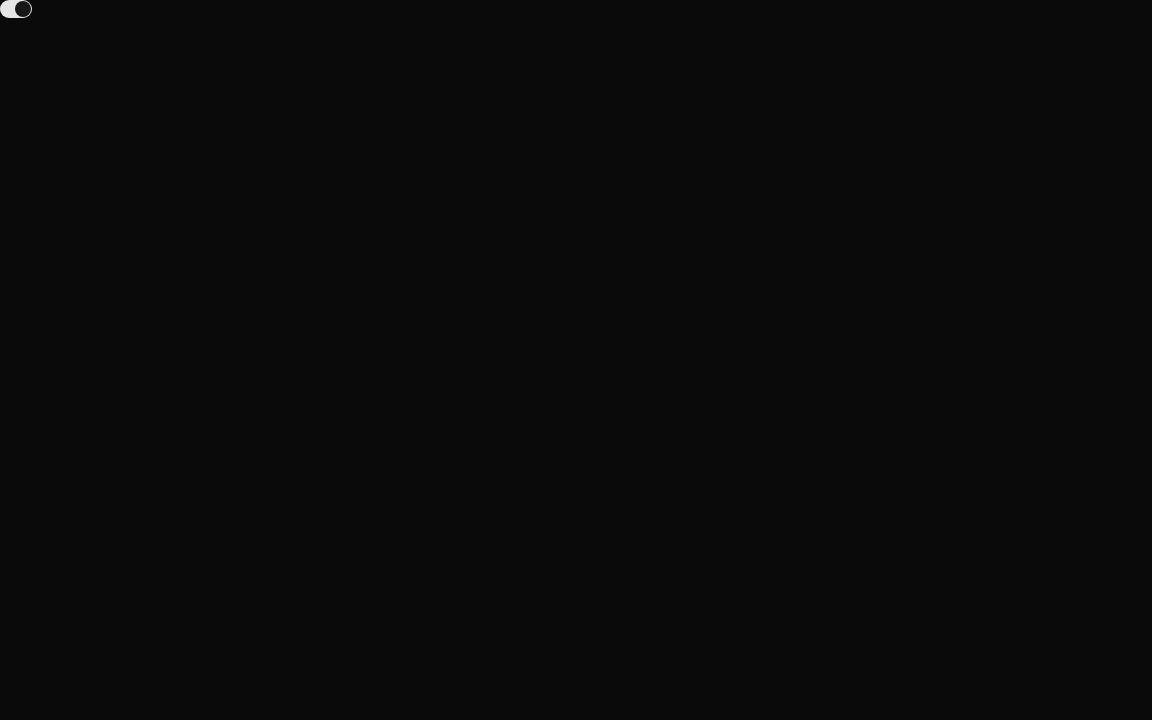
Test: ThemeToggle › segundo clique volta para escuro: recoloca a classe 'dark' no elemento raiz
Click the switch named "modo escuro".
click(16, 9)  # box [0, 0, 32, 18]
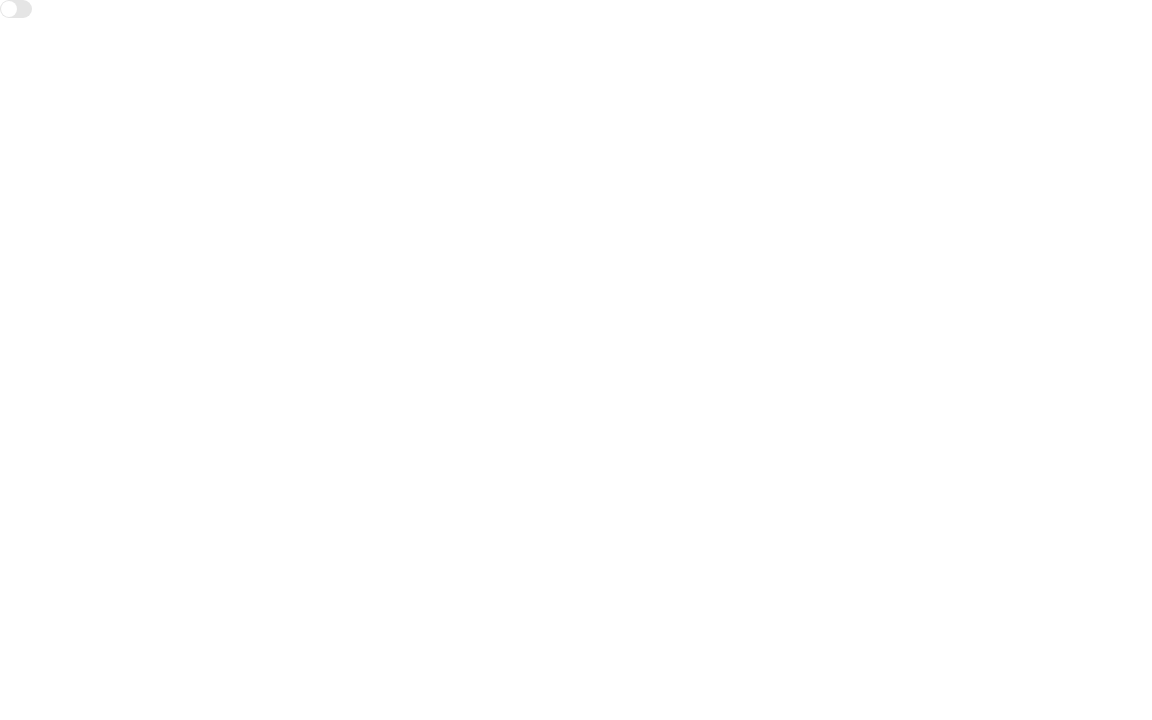
Click the switch named "modo escuro".
click(16, 9)  # box [0, 0, 32, 18]
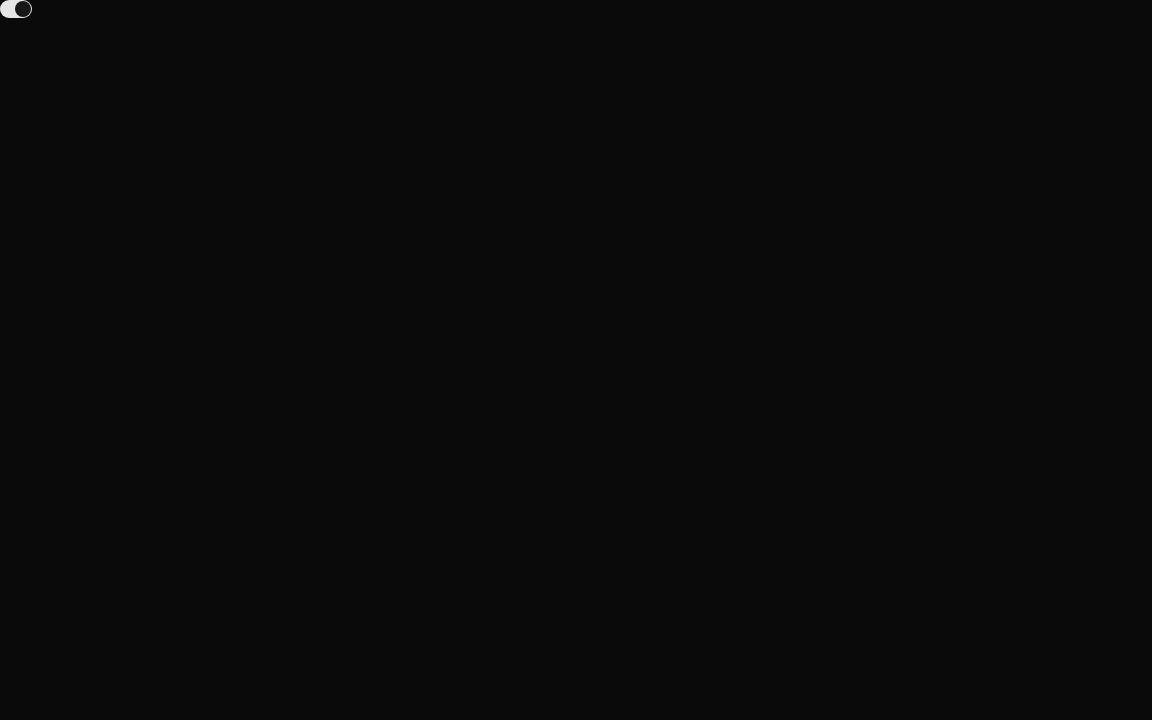
Now the switch named "modo escuro" is checked, box [0, 0, 32, 18]
Now the switch named "modo escuro" has attribute data-state="checked", box [0, 0, 32, 18]
